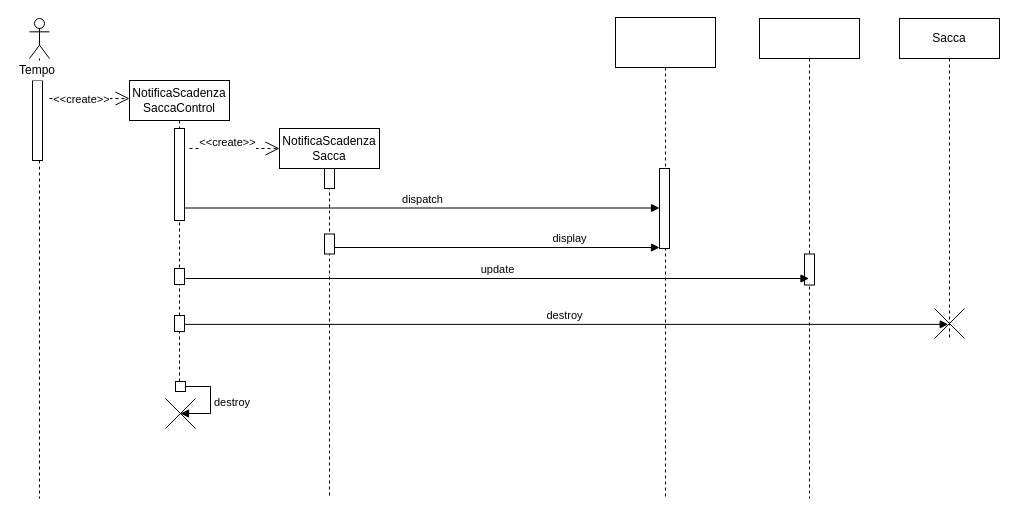
This 1017x516 diagram has some shape labels left out. Each missing label, with the centre of its shape:
DatiSacca: (x=809, y=258)
Terminale Magazziniere: (x=665, y=257)
